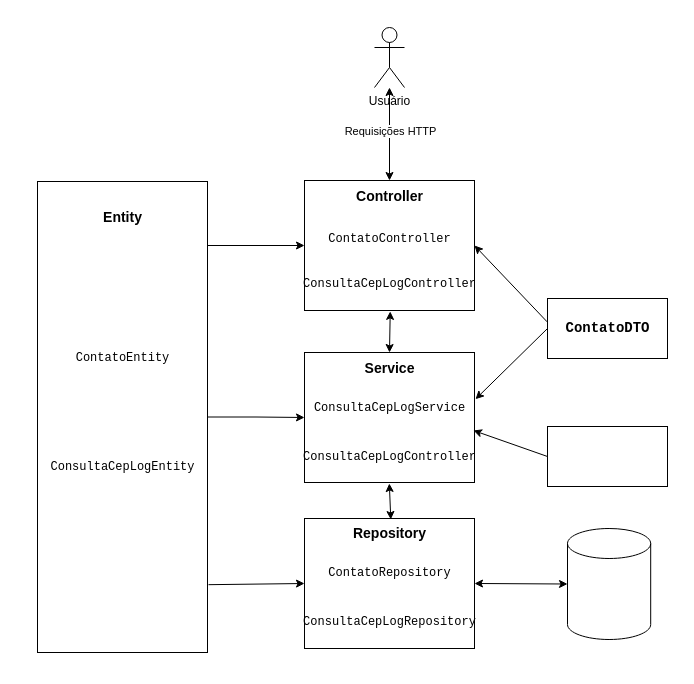
The diagram is 694 pixels wide and 684 high, and some of its shapes have lost their labels. The shapes that lost their labels are listed below. From the top down, each one's centre as x and y in pixels, then its label:
the point at 607,456: API Externa
the point at 608,584: MySql
